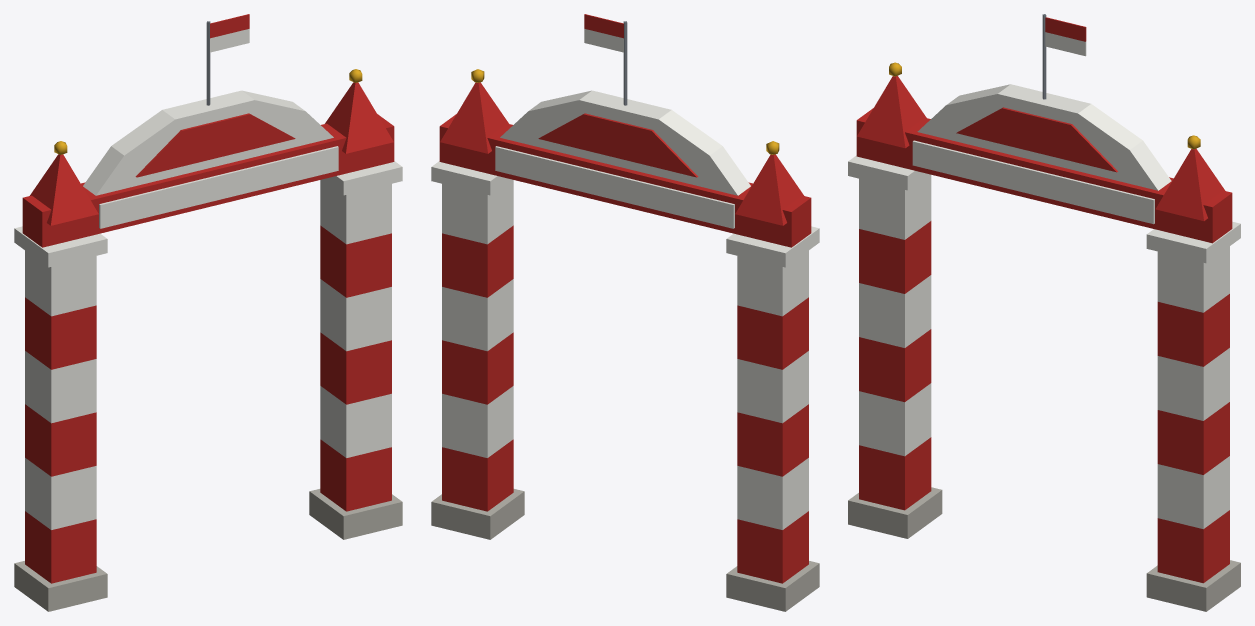
File: gapura_gang.glb
3 views of the same model, side by side, from view 1: azimuth 30°, elevation 25°; view 2: azimuth 150°, elevation 25°; view 3: azimuth 330°, elevation 25° (orthographic).
Visible parts, largest first — view 1: body; view 2: body; view 3: body.
Boxes of the visible parts, bbox=[...] form: body: bbox=[14, 14, 402, 611]; body: bbox=[431, 14, 819, 611]; body: bbox=[848, 14, 1240, 611].
Bounding box in the file's own units: 3.12 × 4.5 × 0.52.
1 material, 1 textured.
